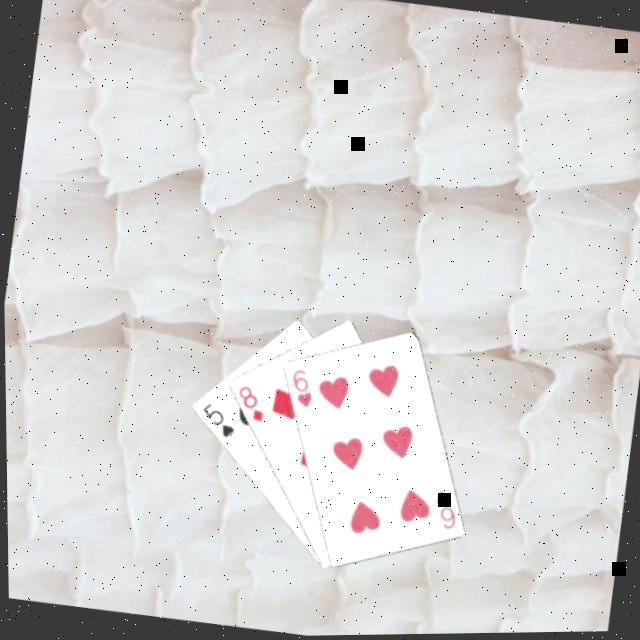5S: (195, 398, 241, 442)
6H: (427, 487, 462, 534), (284, 364, 319, 410)
8D: (230, 381, 270, 426)
